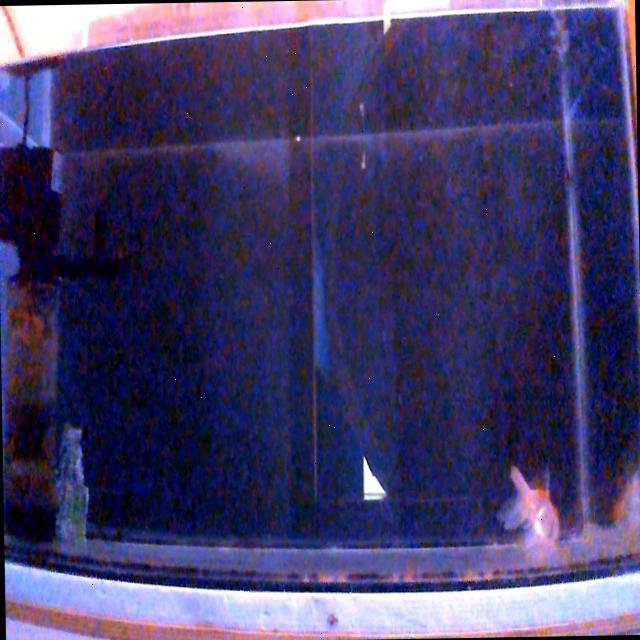fish: (498, 460, 560, 547), (609, 467, 640, 542)
